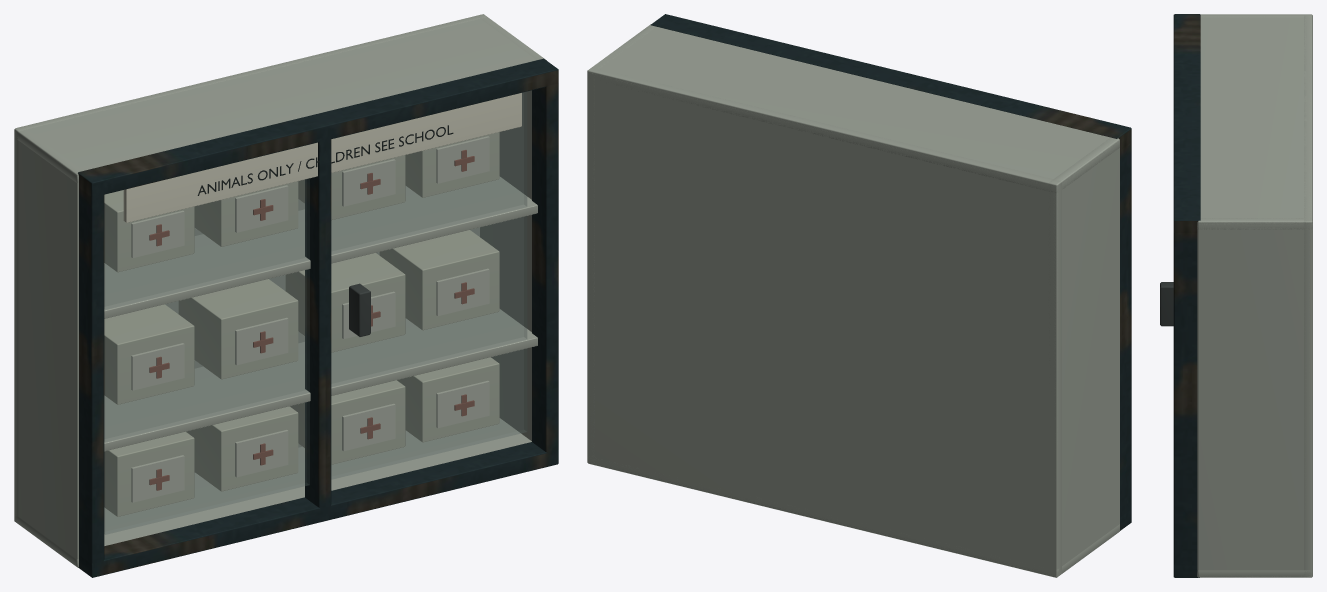
The model's file is corner-shop-pharmacy.glb.
The picture shows the model from 3 angles, left to right: view 1: azimuth 30°, elevation 25°; view 2: azimuth 150°, elevation 25°; view 3: azimuth 270°, elevation 25°; orthographic projection. The views are drawn at different scales.
Parts seen in each view (by area): view 1: Authored shopglass, Authored enamel, Authored Faded harbour paint, Authored medical, Authored paper, Authored red, Authored black, Authored iron; view 2: Authored enamel, Authored Faded harbour paint; view 3: Authored enamel, Authored Faded harbour paint, Authored iron.
Part boxes in pixels (x1,y1,x2,y2): Authored shopglass: (104, 92, 526, 534); Authored enamel: (14, 14, 546, 567); Authored Faded harbour paint: (78, 58, 558, 577); Authored medical: (104, 132, 499, 516); Authored paper: (123, 93, 521, 502); Authored red: (149, 150, 474, 490); Authored black: (197, 125, 453, 195); Authored iron: (349, 283, 370, 336); Authored enamel: (587, 24, 1119, 577); Authored Faded harbour paint: (651, 14, 1131, 530); Authored enamel: (1197, 14, 1312, 577); Authored Faded harbour paint: (1173, 14, 1200, 577); Authored iron: (1160, 282, 1173, 326).
Size of the model in its own units: 1.45 by 1.16 by 0.45.
8 materials, 1 textured.
